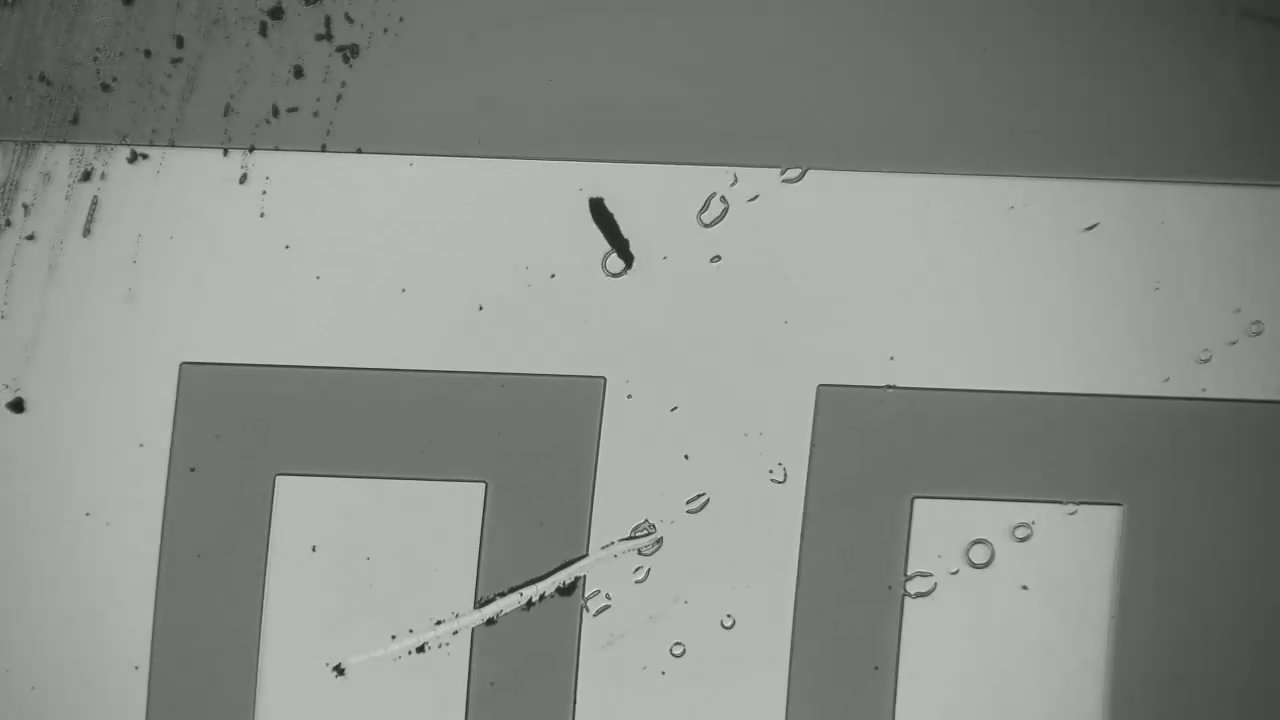Short_circuit: (430, 519, 613, 658)
